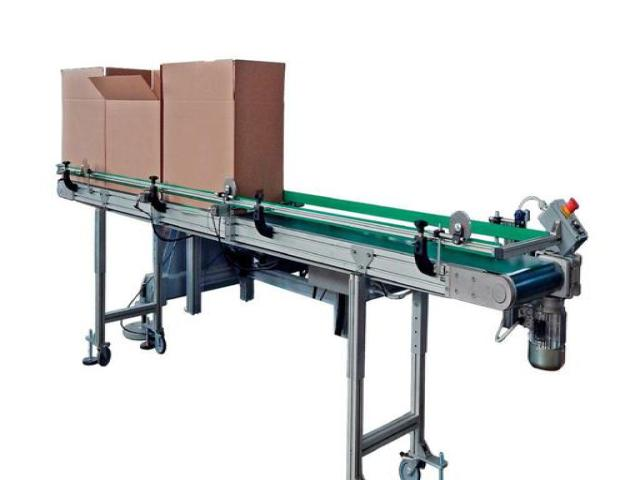conveyor: (44, 155, 640, 381)
